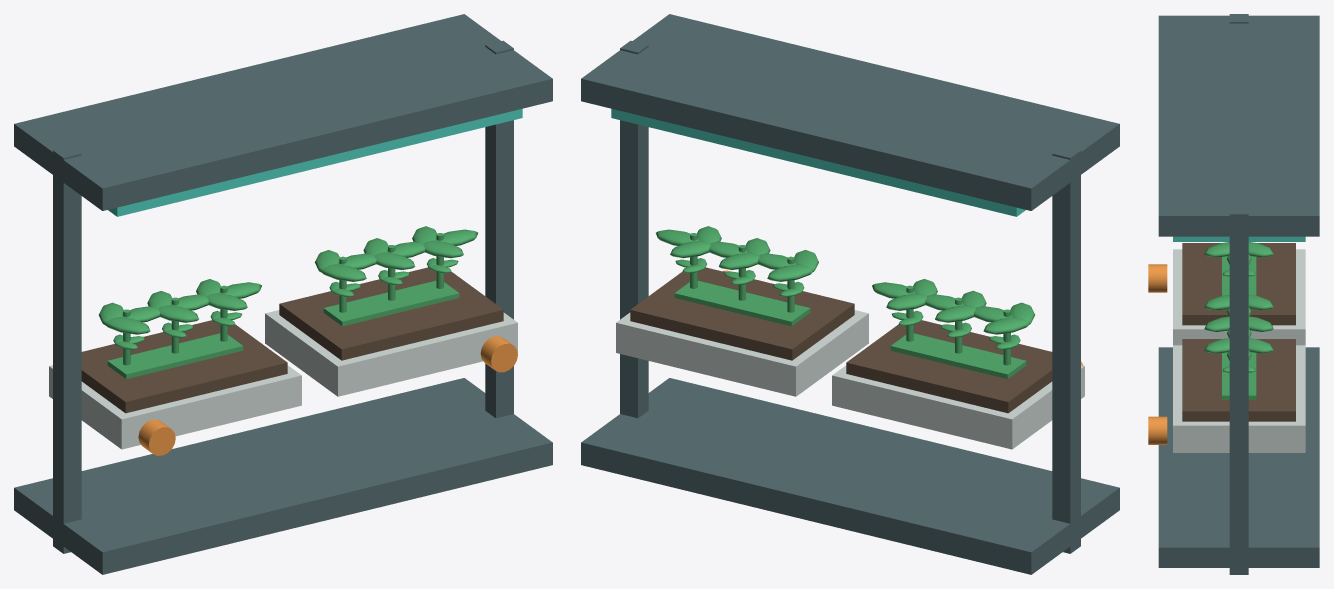
Rendered from greenhouse-rack.glb.
The picture shows the model from 3 angles, left to right: view 1: azimuth 30°, elevation 25°; view 2: azimuth 150°, elevation 25°; view 3: azimuth 270°, elevation 25°; orthographic projection. The views are drawn at different scales.
Parts seen in each view (by area): view 1: rack_top, rack_base, growing_medium (×2), rack_post (×2), tray_body (×2), harvest_stubble (×2), led_panel, growth_mature_b, growth_mature_a, valve_a, valve_b, growth_seedling_a (+1 smaller); view 2: rack_top, rack_base, growing_medium (×2), tray_body (×2), rack_post (×2), harvest_stubble (×2), led_panel, growth_mature_a, growth_mature_b, growth_seedling_a, growth_seedling_b; view 3: rack_top, rack_base, growing_medium (×2), tray_body (×2), rack_post, growth_mature_b, harvest_stubble (×2), led_panel, growth_mature_a, valve_a, valve_b.
Part boxes in pixels (x1,y1,x2,y2): rack_top: [14, 14, 552, 210]; rack_base: [14, 378, 552, 574]; growing_medium (×2): [81, 267, 503, 413]; rack_post (×2): [53, 40, 513, 553]; tray_body (×2): [49, 310, 517, 449]; harvest_stubble (×2): [107, 280, 459, 379]; led_panel: [108, 108, 522, 216]; growth_mature_b: [314, 226, 477, 281]; growth_mature_a: [98, 279, 261, 334]; valve_a: [138, 419, 175, 455]; valve_b: [480, 336, 517, 372]; growth_seedling_a: [113, 310, 241, 349]; rack_top: [581, 14, 1119, 210]; rack_base: [581, 378, 1119, 574]; growing_medium (×2): [630, 267, 1052, 413]; tray_body (×2): [616, 310, 1084, 449]; rack_post (×2): [620, 40, 1080, 553]; harvest_stubble (×2): [674, 280, 1026, 379]; led_panel: [611, 108, 1025, 216]; growth_mature_a: [872, 279, 1034, 334]; growth_mature_b: [656, 226, 818, 281]; growth_seedling_a: [892, 310, 1020, 349]; growth_seedling_b: [675, 258, 804, 296]; rack_top: [1158, 15, 1319, 236]; rack_base: [1158, 347, 1319, 567]; growing_medium (×2): [1182, 243, 1295, 421]; tray_body (×2): [1173, 249, 1305, 452]; rack_post: [1229, 206, 1248, 574]; growth_mature_b: [1204, 294, 1273, 360]; harvest_stubble (×2): [1222, 256, 1256, 399]; led_panel: [1173, 236, 1305, 241]; growth_mature_a: [1204, 242, 1273, 264]; valve_a: [1148, 264, 1167, 292]; valve_b: [1148, 416, 1167, 444].
Size of the model in its own units: 2.5 by 2.1 by 0.905.
